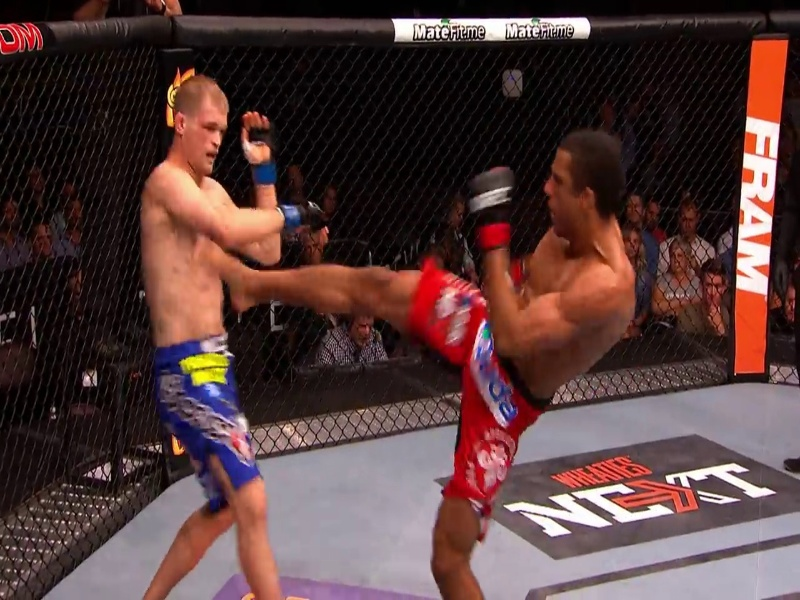fighter: (192, 126, 638, 600), (121, 70, 341, 600)
